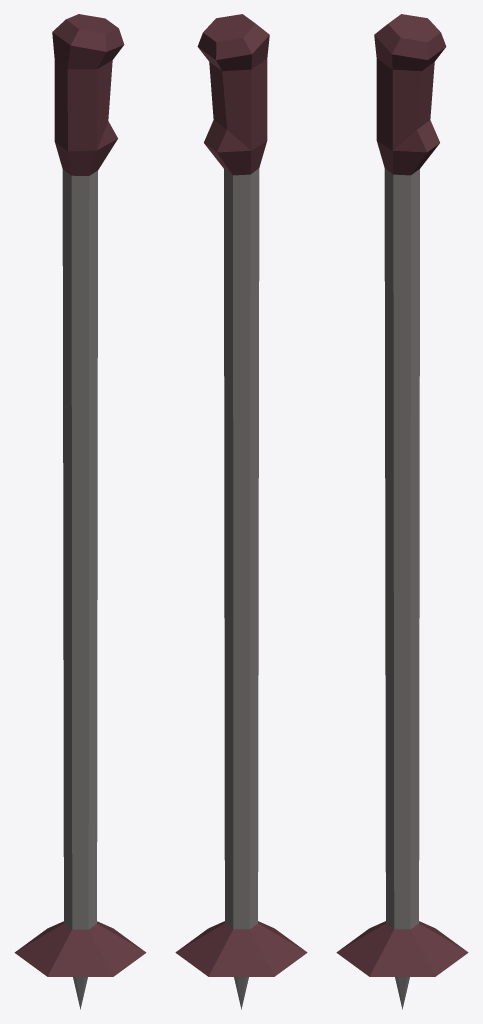
The model's file is sport-ski-pole.glb.
The picture shows the model from 3 angles, left to right: view 1: azimuth 30°, elevation 25°; view 2: azimuth 210°, elevation 25°; view 3: azimuth 330°, elevation 25°; orthographic projection.
Parts seen in each view (by area): view 1: ski-pole; view 2: ski-pole; view 3: ski-pole.
Part boxes in pixels (box(x1,y1,x2,y2)): ski-pole: box(14, 14, 146, 1009); ski-pole: box(175, 14, 307, 1009); ski-pole: box(336, 14, 468, 1009).
Size of the model in its own units: 0.1212 by 1.15 by 0.14.
